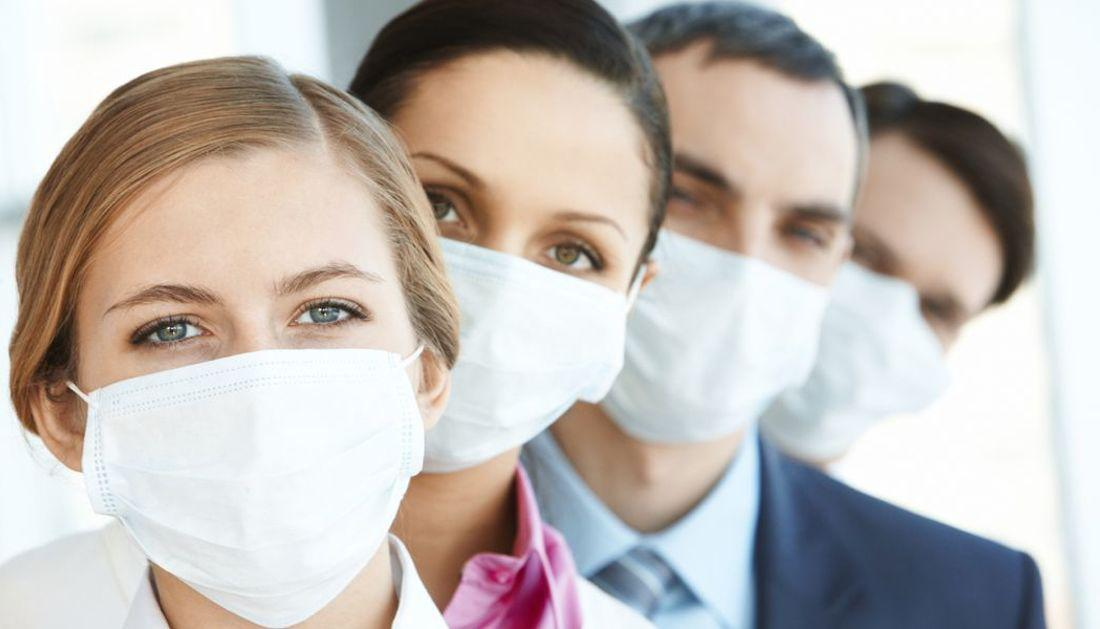mask: (86, 195, 428, 601), (402, 98, 654, 462), (612, 73, 864, 437), (791, 98, 1043, 462)
